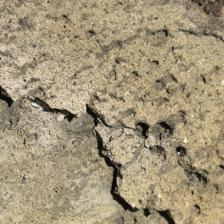Crack: (21, 33, 83, 144), (83, 39, 122, 133)
